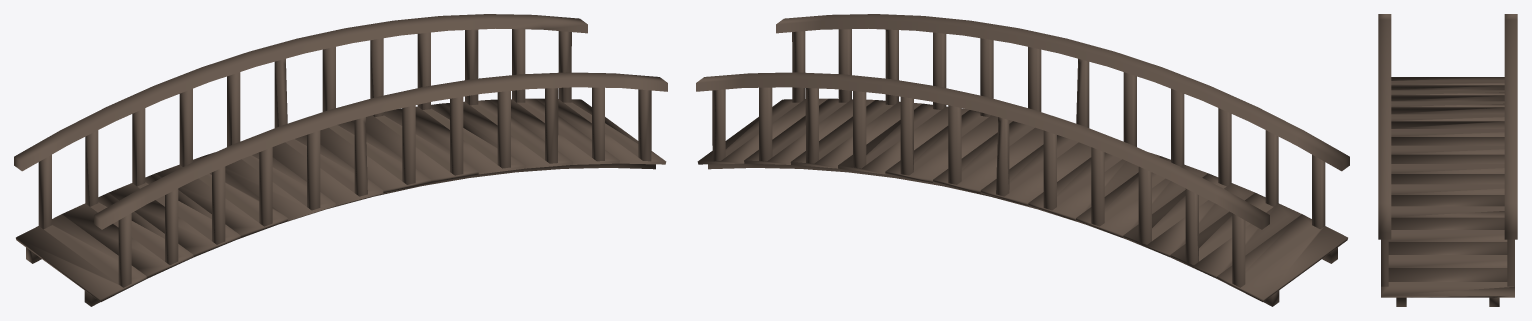
File: bridge.fbx
3 renders of one model, left to right at view 1: azimuth 30°, elevation 25°; view 2: azimuth 150°, elevation 25°; view 3: azimuth 270°, elevation 25°, orthographic. The views are drawn at different scales.
Visible parts, largest first — view 1: Group1; view 2: Group1; view 3: Group1.
Part boxes in pixels (bbox=[...]): Group1: bbox=[14, 14, 667, 306]; Group1: bbox=[696, 14, 1349, 306]; Group1: bbox=[1378, 14, 1517, 306].
Bounding box in the file's own units: 5.01 × 1.21 × 1.35.
